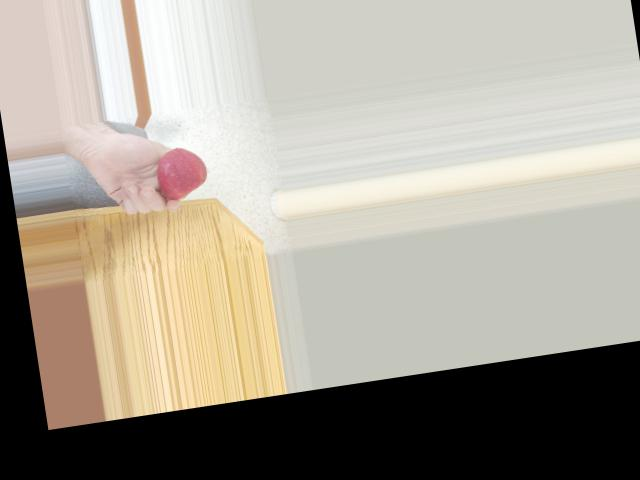apple: (152, 142, 212, 202)
